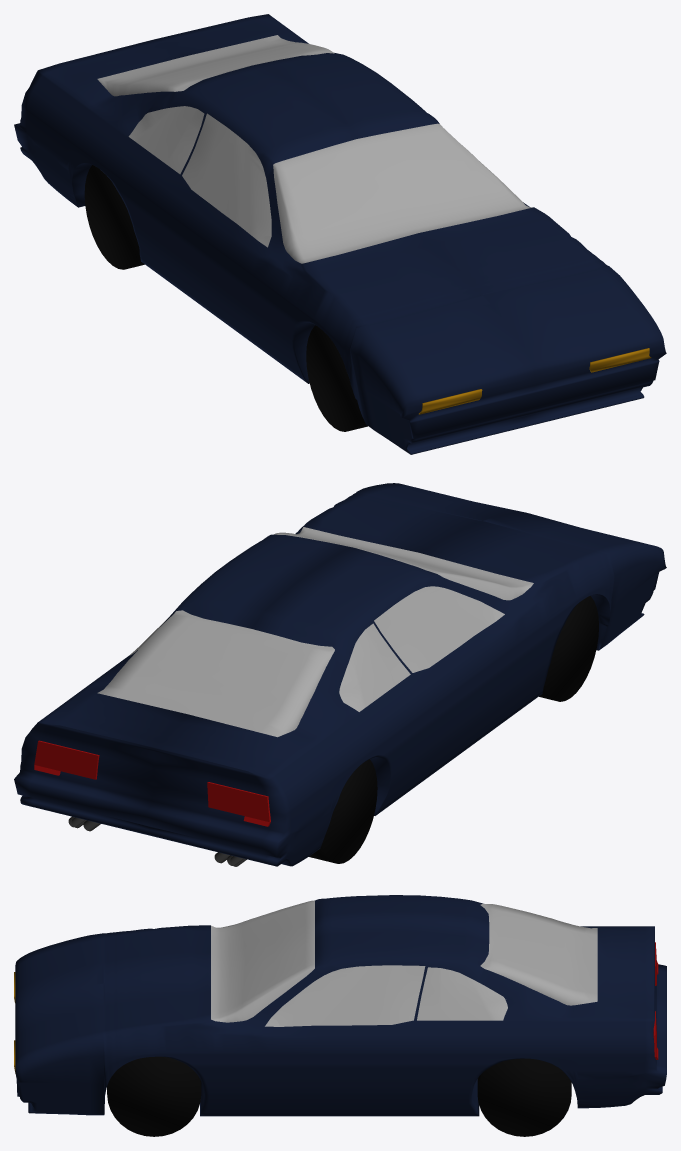
File: coche.FBX
3 views of the same model, one above another, from view 1: azimuth 30°, elevation 25°; view 2: azimuth 150°, elevation 25°; view 3: azimuth 270°, elevation 25° (orthographic). The views are drawn at different scales.
Parts seen in each view (by area): view 1: Cube; view 2: Cube; view 3: Cube.
Boxes of the visible parts, x1,y1,x2,y2 form: Cube: [14, 14, 666, 454]; Cube: [14, 483, 666, 866]; Cube: [14, 895, 666, 1136].
Size of the model in its own units: 151 by 110 by 386.
